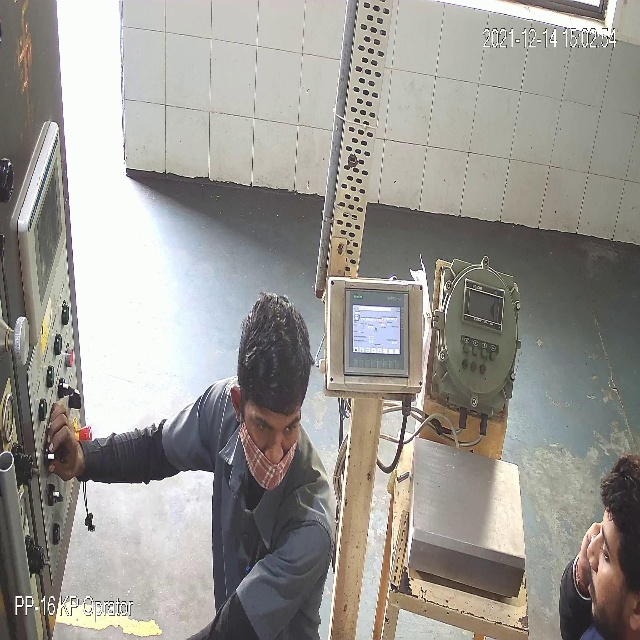Sin_gafas: (244, 411, 301, 452)
